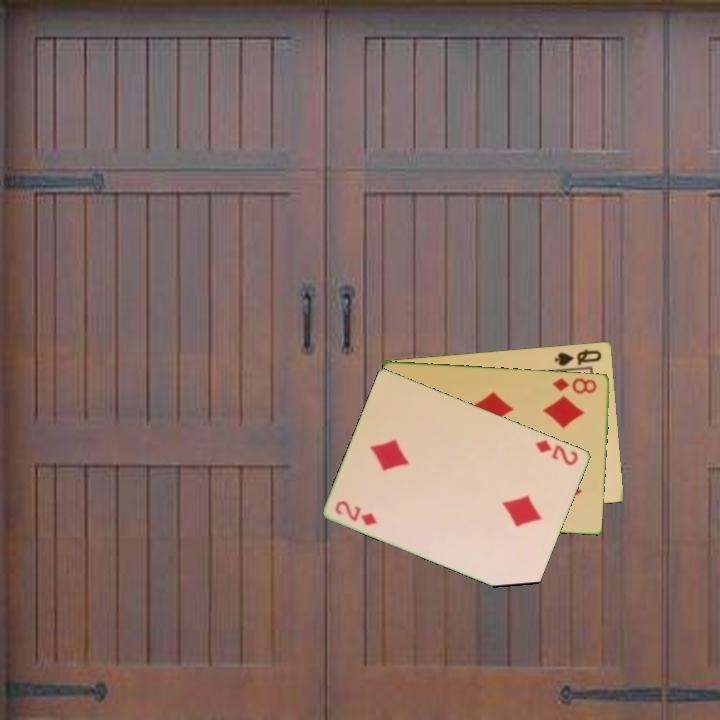2d: (532, 436, 582, 468), (332, 497, 380, 528)
8d: (549, 374, 600, 397)
Qs: (551, 345, 605, 368)
